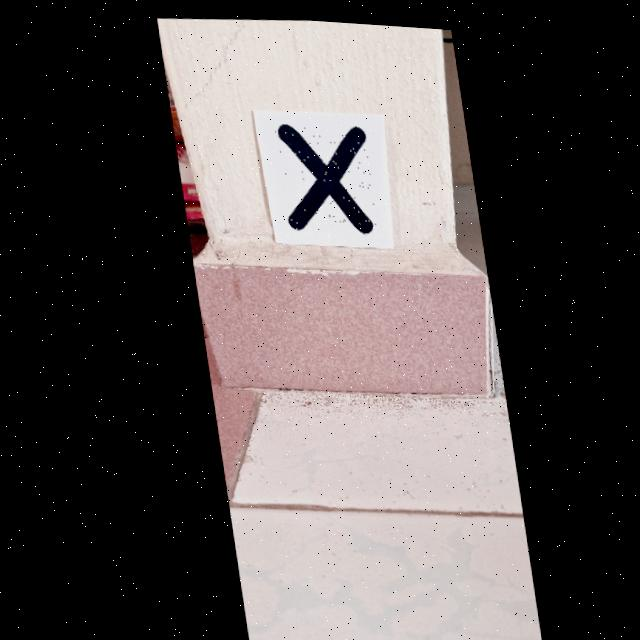X: (275, 121, 369, 230)
